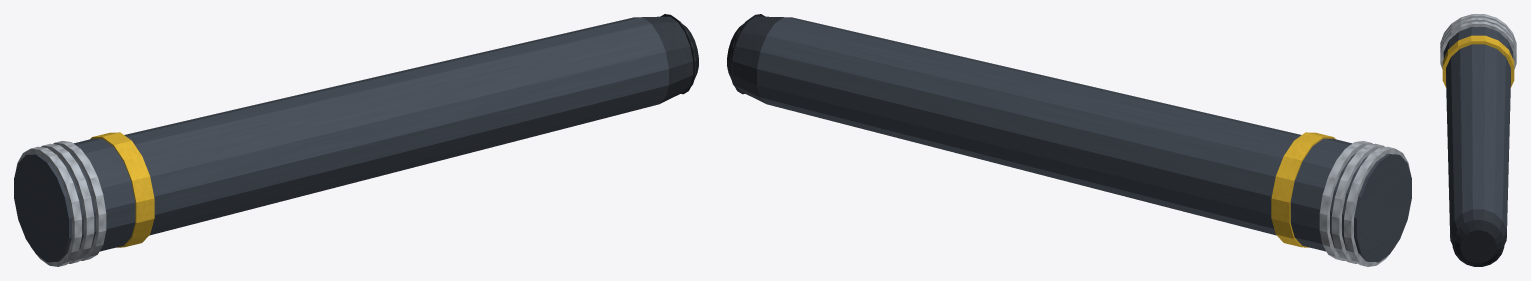
File: barrel_bull_v2.glb
3 views of the same model, side by side, from view 1: azimuth 30°, elevation 25°; view 2: azimuth 150°, elevation 25°; view 3: azimuth 270°, elevation 25° (orthographic). The views are drawn at different scales.
Visible parts, largest first — view 1: barrel_bull_mesh; view 2: barrel_bull_mesh; view 3: barrel_bull_mesh.
Part boxes in pixels (x1,y1,x2,y2): barrel_bull_mesh: (14,14,698,266); barrel_bull_mesh: (727,14,1411,266); barrel_bull_mesh: (1440,14,1516,266).
Size of the model in its own units: 0.2125 by 0.0344 by 0.0344.
5 materials, 5 textured.
